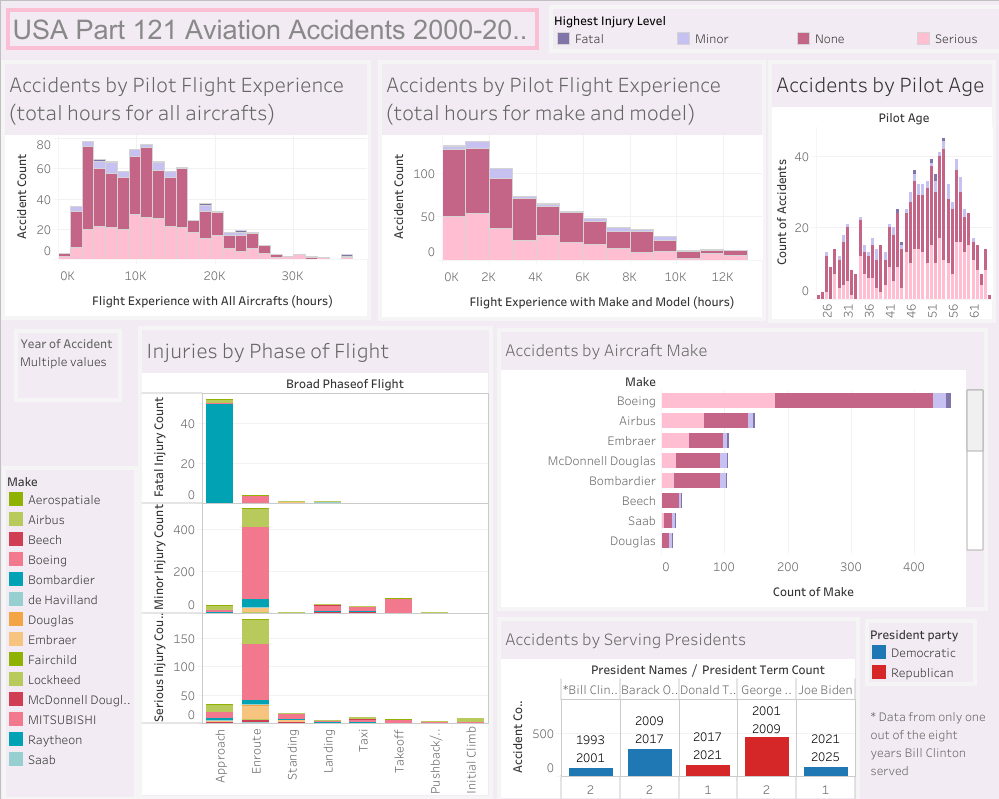

Layout of this report page (visuals, bound fields, positions):
{"tool":"tableau","page":{"name":"Dashboard","canvas":[1000,800],"ordinal":0},"visuals":[{"type":"text","box":[6,8,533,42]},{"type":"worksheet","title":"exp all","mark":"Automatic","rows":["PilotFlightExp(Total,AllAircraft)"],"cols":["PilotFlightExp(Total,AllAircraft) (bin)"],"box":[1,60,370,260]},{"type":"worksheet","title":"exp make and model","mark":"Automatic","rows":["PilotFlightExp(Total,ThisMakeAndModel)"],"cols":["PilotFlightExp(Total,ThisMakeAndModel) (bin)"],"box":[378,60,388,261]},{"type":"worksheet","title":"age","mark":"Automatic","rows":["PilotAge"],"cols":["PilotAge"],"box":[768,60,228,263]},{"type":"worksheet","title":"phase of flight","mark":"Automatic","rows":["FatalInjuryCount","MinorInjuryCount","SeriousInjuryCount"],"cols":["BroadPhaseofFlight"],"box":[138,326,355,474]},{"type":"worksheet","title":"Make","mark":"Automatic","rows":["Make"],"cols":["Make"],"box":[497,328,491,283]},{"type":"filter","title":"phase of flight","param":"[federated.1hlqfcb1k8wswo115wqnj043l72j].[yr:EventYear:ok]","box":[14,329,108,73]},{"type":"legend","title":"phase of flight","param":"[federated.1hlqfcb1k8wswo115wqnj043l72j].[none:Make:nk]","box":[2,466,136,335]},{"type":"worksheet","title":"President","mark":"Automatic","rows":["F30"],"cols":["F27","Calculation_1125949830955053"],"box":[497,617,363,186]},{"type":"legend","title":"President","param":"[federated.1hlqfcb1k8wswo115wqnj043l72j].[none:F30:nk]","box":[865,619,112,67]},{"type":"text","box":[868,703,121,80]}]}

Visuals, with their boxes in screenshot pixels (x1, y1, x2, y2), scaled from the page's 1000x800 canvas onto the 999x799 screenshot:
text: 6/8/538/50
"exp all" worksheet: 1/60/371/320
"exp make and model" worksheet: 378/60/765/321
"age" worksheet: 767/60/995/323
"phase of flight" worksheet: 138/326/493/798
"Make" worksheet: 497/328/987/610
"phase of flight" filter: 14/329/122/401
"phase of flight" legend: 2/465/138/798
"President" worksheet: 497/616/859/798
"President" legend: 864/618/976/685
text: 867/702/988/782
